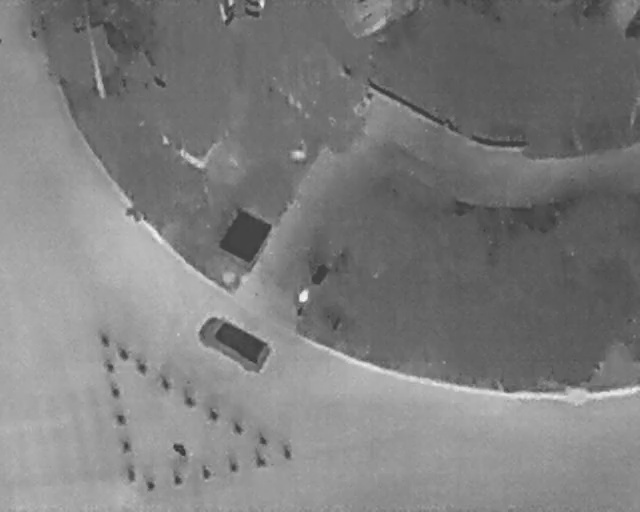Car: (190, 307, 278, 379)
